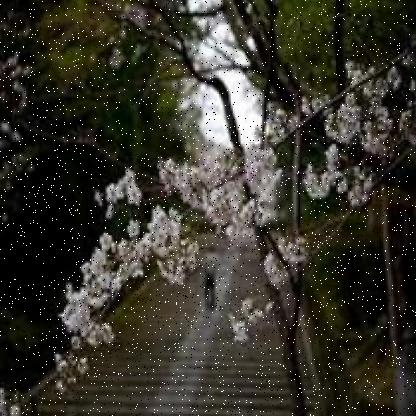stair_up: (69, 309, 282, 416)
